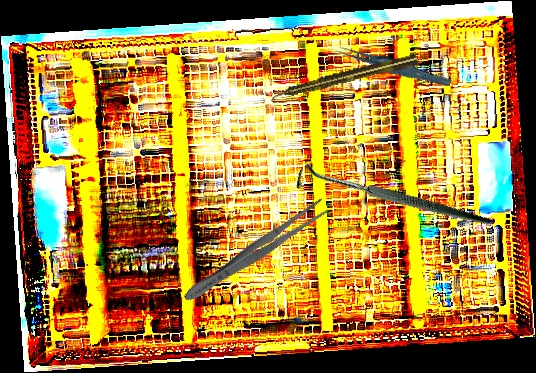Dressing Forceps: (179, 195, 332, 308)
Handpiece: (268, 52, 420, 104)
Hook Surgical: (289, 100, 493, 302)
Tissue Forceps: (332, 35, 453, 96)
